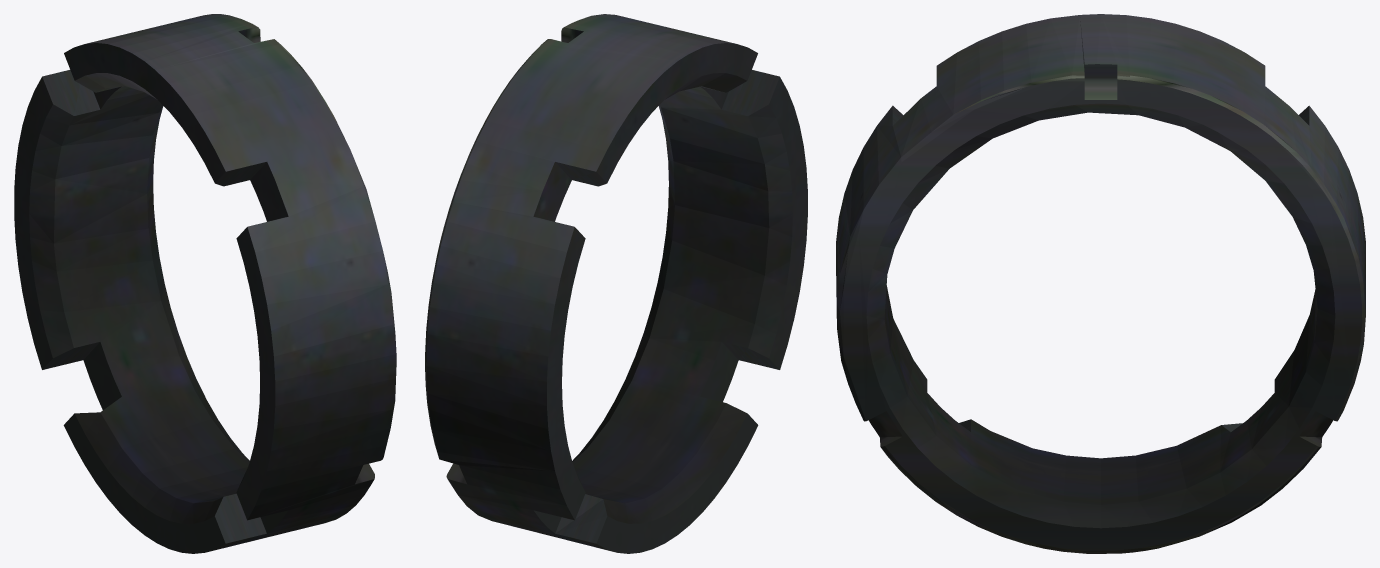
The model's file is Plain_Round_Nut.dae.
3 renders of one model, left to right at view 1: azimuth 30°, elevation 25°; view 2: azimuth 150°, elevation 25°; view 3: azimuth 270°, elevation 25°, orthographic.
Parts seen in each view (by area): view 1: Plain_Round_Nut; view 2: Plain_Round_Nut; view 3: Plain_Round_Nut.
Boxes of the visible parts, bbox=[...] form: Plain_Round_Nut: bbox=[14, 14, 396, 553]; Plain_Round_Nut: bbox=[425, 14, 807, 553]; Plain_Round_Nut: bbox=[836, 14, 1365, 553].
Bounding box in the file's own units: 0.0093 × 0.0339 × 0.0339.
1 material, 1 textured.
